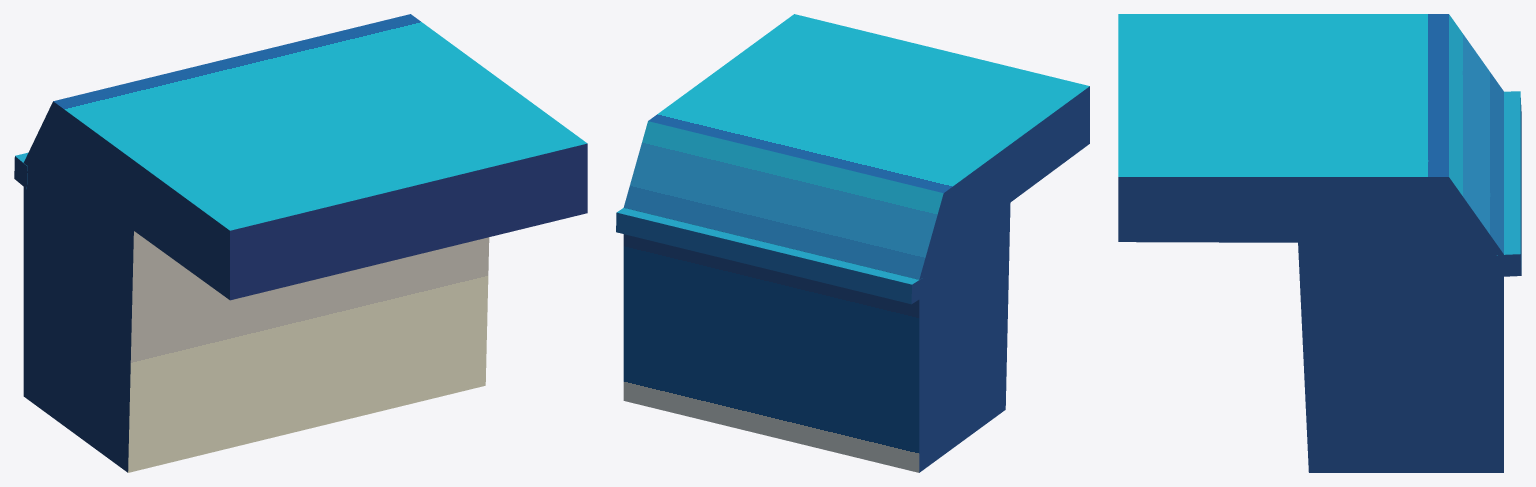
Rendered from df5_carport_5.obj.
3 renders of one model, left to right at view 1: azimuth 30°, elevation 25°; view 2: azimuth 150°, elevation 25°; view 3: azimuth 270°, elevation 25°, orthographic. The views are drawn at different scales.
Parts seen in each view (by area): view 1: cube; view 2: cube; view 3: cube.
Boxes of the visible parts, left/top/right/bottom form: cube: left=14, top=14, right=587, bottom=472; cube: left=616, top=14, right=1089, bottom=472; cube: left=1118, top=14, right=1521, bottom=472.
Size of the model in its own units: 1 by 0.8465 by 1.05.
